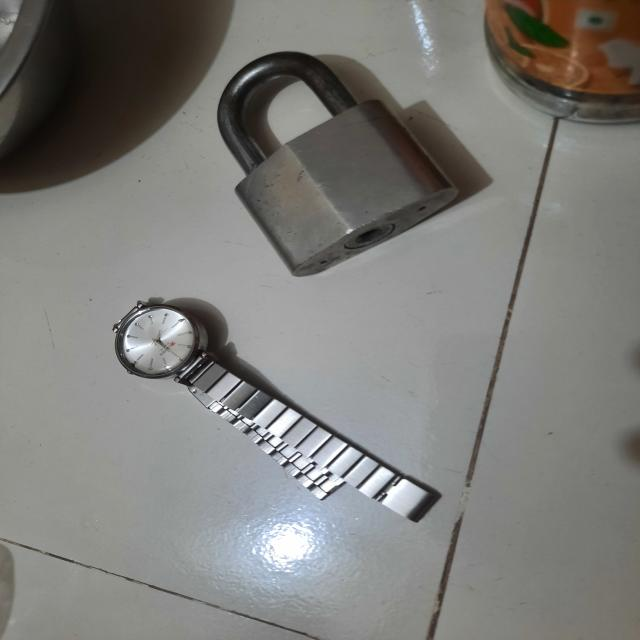E-waste: (64, 296, 514, 558)
Metal: (160, 32, 476, 265)
